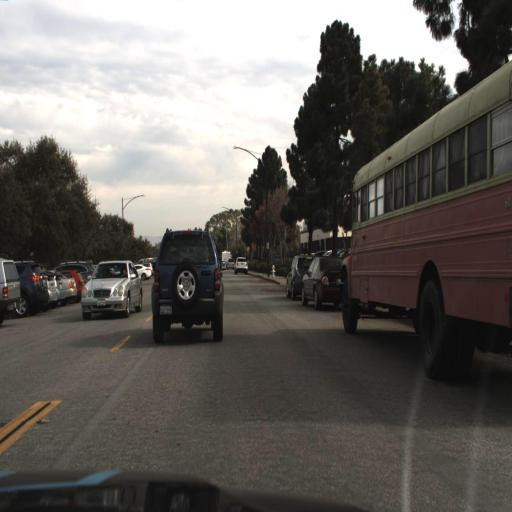car: (150, 224, 224, 340), (77, 258, 143, 322), (296, 255, 343, 313)
truck: (343, 54, 508, 379)
